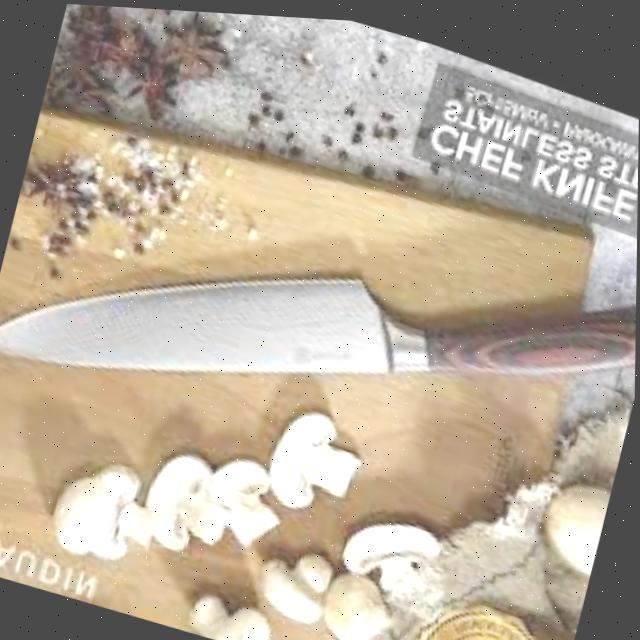knife: (0, 128, 639, 524)
